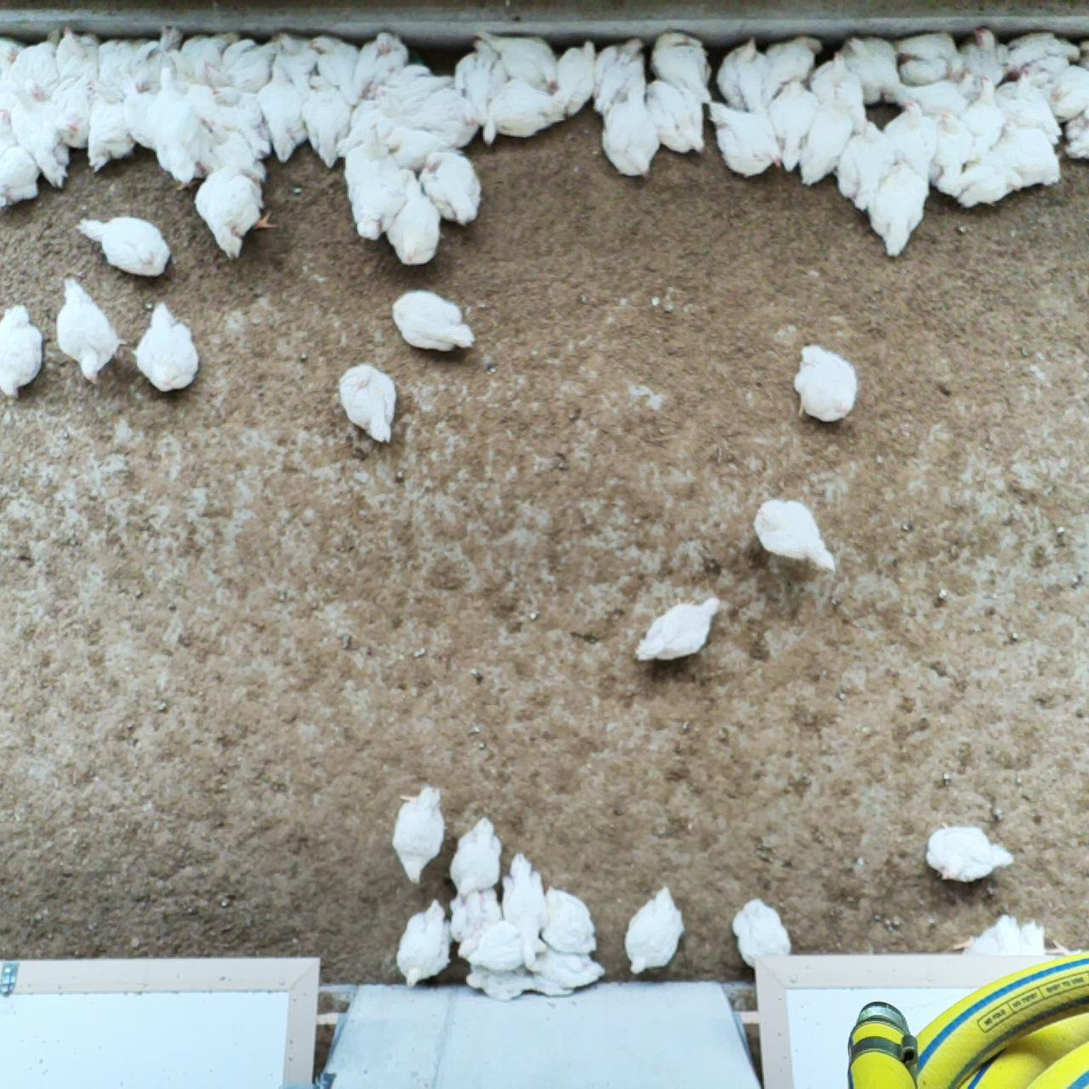chicken: (193, 160, 279, 262), (340, 122, 408, 242), (54, 275, 123, 388), (750, 495, 838, 577), (867, 155, 934, 260), (634, 592, 726, 668), (147, 64, 203, 187), (74, 212, 171, 279), (386, 288, 477, 359), (134, 299, 202, 394), (705, 101, 785, 180), (924, 816, 1015, 884), (14, 78, 70, 188), (480, 77, 568, 147), (622, 883, 687, 977), (835, 120, 898, 216), (789, 342, 860, 423), (391, 782, 446, 885), (416, 149, 485, 231), (600, 92, 662, 181), (256, 63, 310, 165), (336, 361, 400, 447), (396, 895, 454, 988), (766, 77, 820, 174), (644, 78, 710, 157), (992, 70, 1067, 139), (884, 100, 940, 192), (807, 52, 872, 131), (591, 35, 651, 120), (798, 94, 851, 190), (525, 936, 607, 998), (301, 74, 355, 168), (384, 184, 443, 270), (479, 31, 559, 93), (837, 31, 903, 105), (446, 811, 502, 897), (404, 88, 484, 148), (649, 26, 714, 99), (993, 125, 1064, 191), (728, 896, 793, 968), (715, 34, 773, 113), (541, 882, 602, 957), (0, 301, 46, 400), (453, 34, 508, 115), (378, 61, 454, 119), (952, 148, 1023, 210), (892, 68, 976, 119), (498, 850, 546, 937), (204, 41, 288, 90), (0, 110, 39, 214), (454, 919, 529, 973), (763, 33, 825, 97), (1003, 29, 1085, 76), (552, 38, 598, 119), (952, 26, 1013, 87), (894, 28, 961, 83), (85, 98, 131, 175), (207, 117, 266, 177), (934, 112, 975, 197), (356, 34, 411, 96), (953, 912, 1024, 960), (175, 27, 238, 81), (448, 885, 505, 944), (385, 125, 455, 171), (12, 31, 60, 98), (135, 26, 182, 93), (970, 76, 1006, 163), (52, 75, 93, 150), (124, 68, 161, 151), (338, 98, 387, 156), (1042, 63, 1089, 123), (55, 25, 104, 81), (307, 35, 358, 88), (268, 32, 318, 84), (97, 37, 137, 99), (206, 86, 265, 128), (460, 970, 533, 1003), (0, 35, 27, 105), (1062, 111, 1089, 165)
